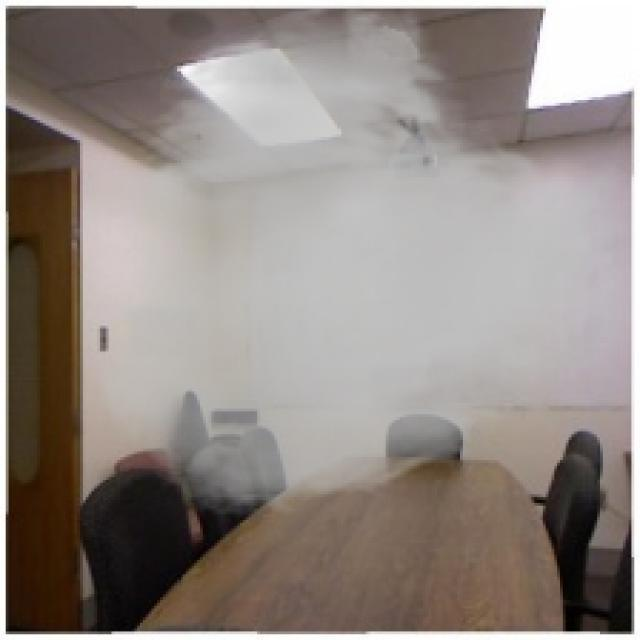Smoke: (89, 0, 632, 520)
